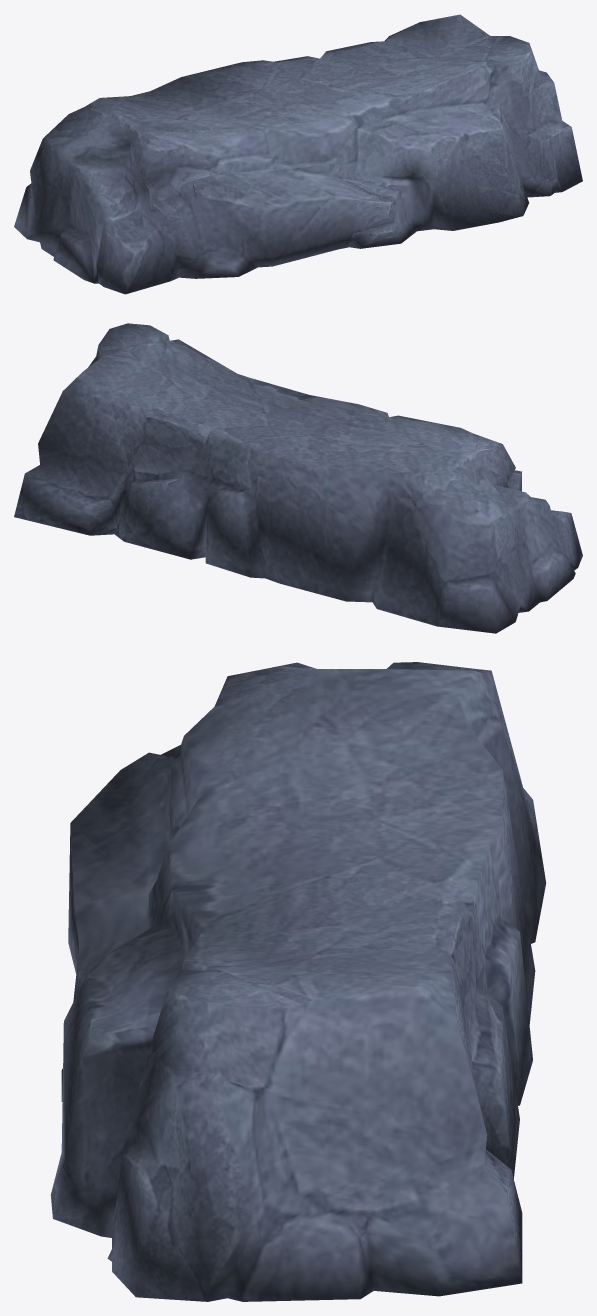
File: rock_c.glb
The picture shows the model from 3 angles, top to bottom: view 1: azimuth 30°, elevation 25°; view 2: azimuth 150°, elevation 25°; view 3: azimuth 270°, elevation 25°; orthographic projection. The views are drawn at different scales.
Parts seen in each view (by area): view 1: tripo_node_29f22245-9fb8-42a3-ac59-4de6fa786c3c; view 2: tripo_node_29f22245-9fb8-42a3-ac59-4de6fa786c3c; view 3: tripo_node_29f22245-9fb8-42a3-ac59-4de6fa786c3c.
Boxes of the visible parts, left/top/right/bottom form: tripo_node_29f22245-9fb8-42a3-ac59-4de6fa786c3c: left=14, top=14, right=582, bottom=294; tripo_node_29f22245-9fb8-42a3-ac59-4de6fa786c3c: left=14, top=323, right=582, bottom=633; tripo_node_29f22245-9fb8-42a3-ac59-4de6fa786c3c: left=50, top=662, right=546, bottom=1301.
Size of the model in its own units: 0.998 by 0.2559 by 0.4434.
Materials: 1 (1 with a texture image).
